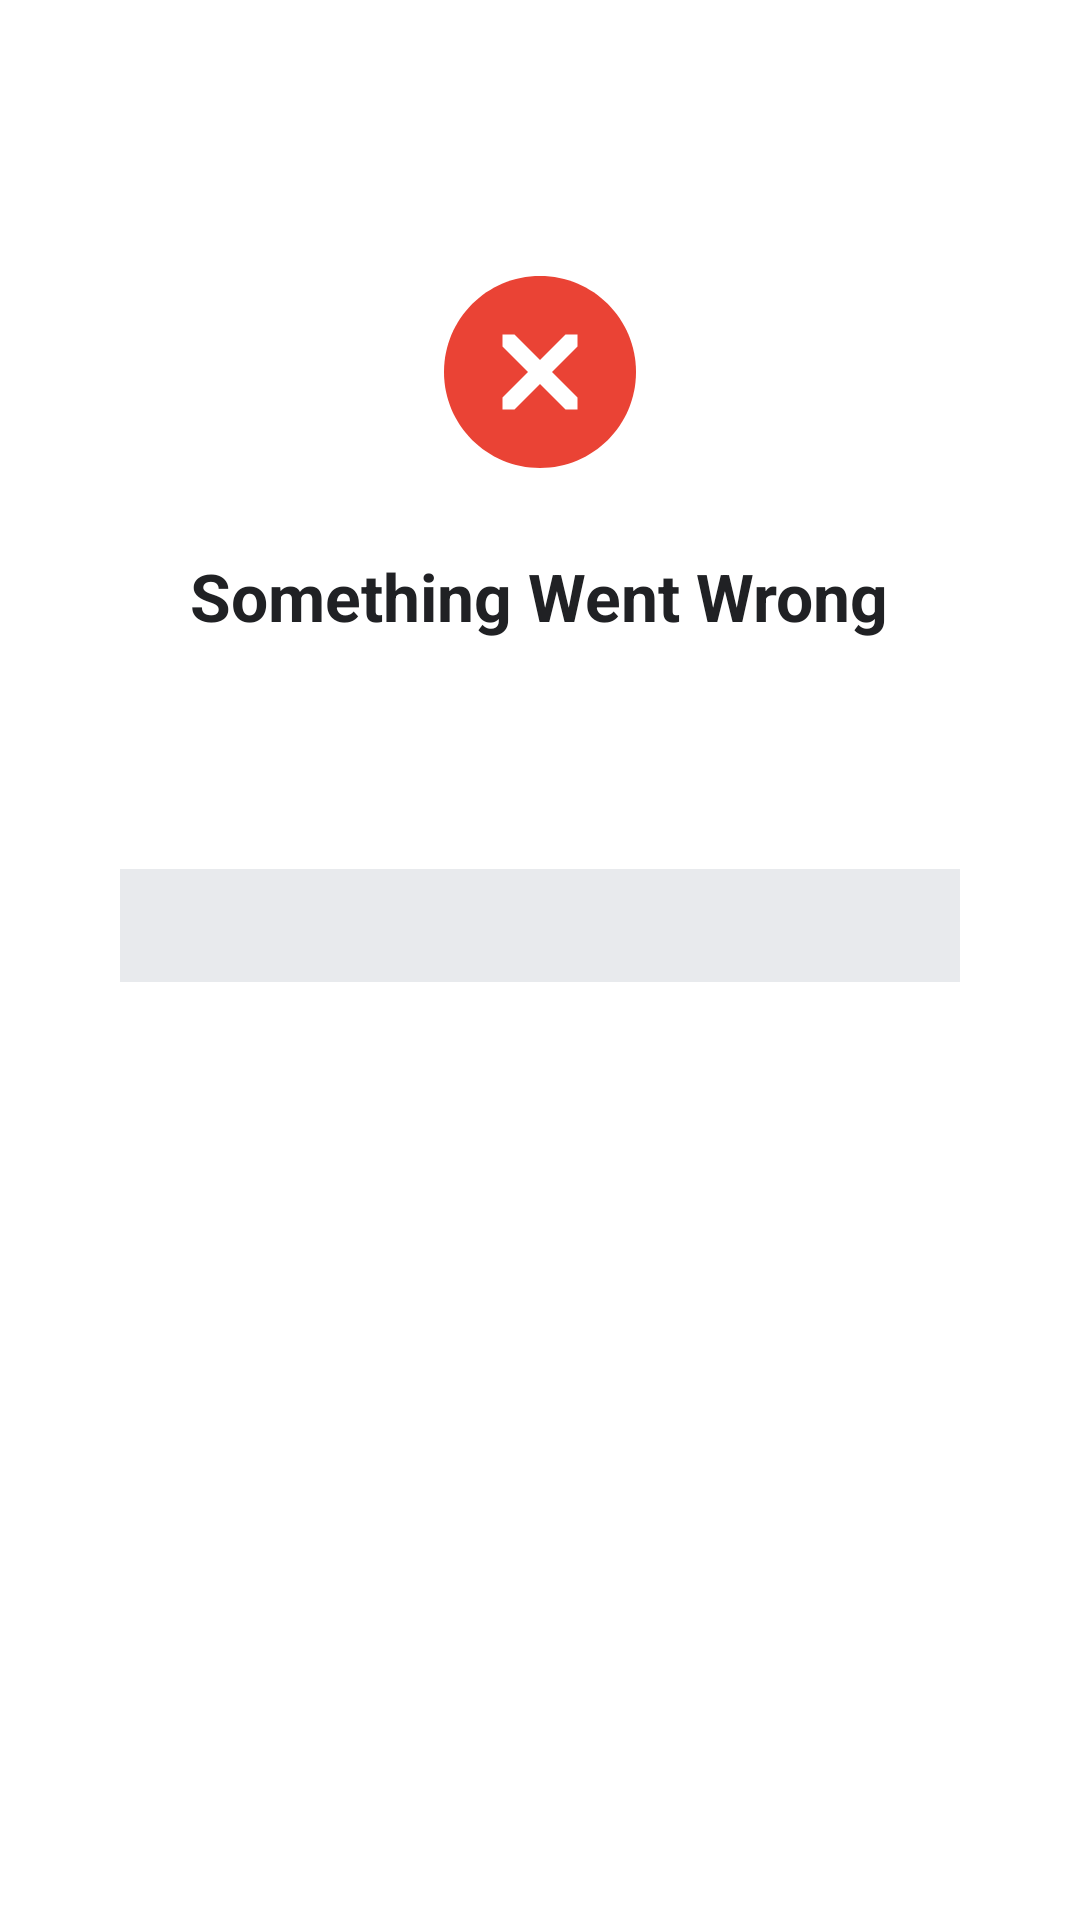

Icon click points for this 1080*1920 phone screenshot, format (x,y):
error: (540,372)
